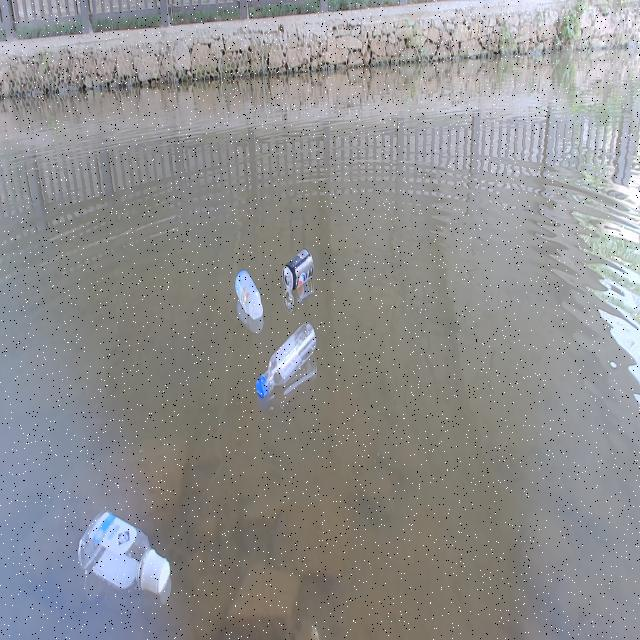Bottle: (74, 500, 172, 593), (257, 320, 317, 398), (233, 262, 263, 322)
Can: (279, 244, 314, 288)
